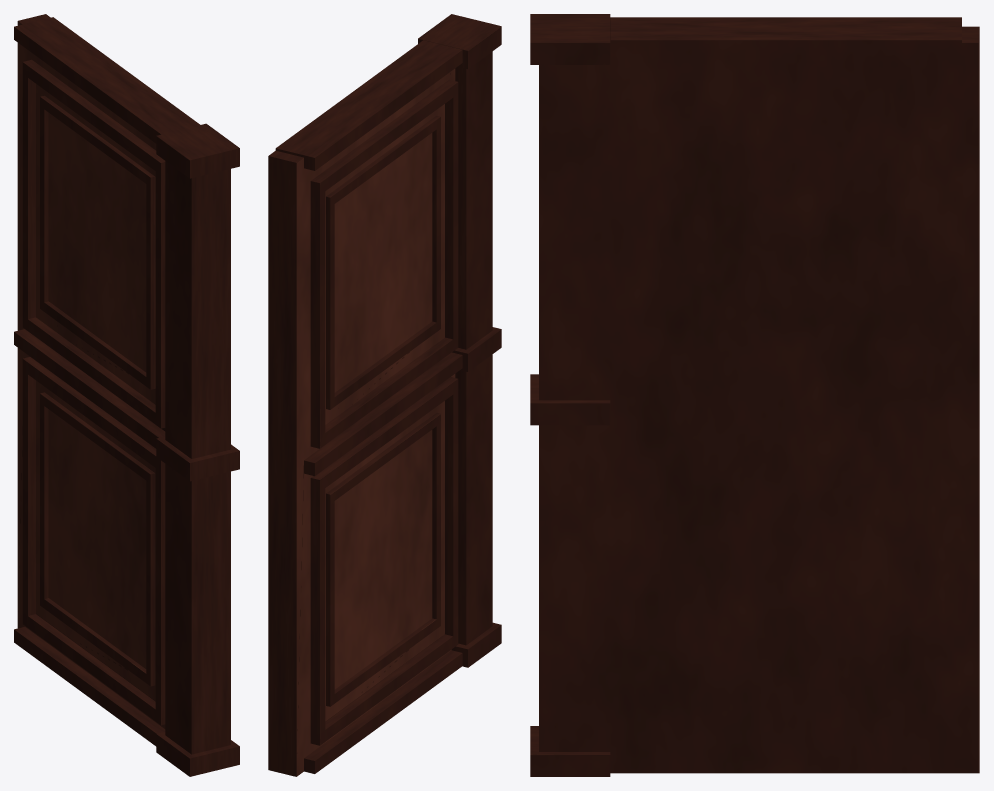
Rendered from rightWallDouble.glb.
3 renders of one model, left to right at view 1: azimuth 30°, elevation 25°; view 2: azimuth 150°, elevation 25°; view 3: azimuth 270°, elevation 25°, orthographic. The views are drawn at different scales.
Visible parts, largest first — view 1: rightWallDouble_V5_TEMP; view 2: rightWallDouble_V5_TEMP; view 3: rightWallDouble_V5_TEMP.
Boxes of the visible parts, left/top/right/bottom form: rightWallDouble_V5_TEMP: left=14, top=14, right=239, bottom=776; rightWallDouble_V5_TEMP: left=268, top=14, right=501, bottom=776; rightWallDouble_V5_TEMP: left=530, top=14, right=979, bottom=776.
Bounding box in the file's own units: 2.36 × 27.8 × 15.42.
1 material, 1 textured.
